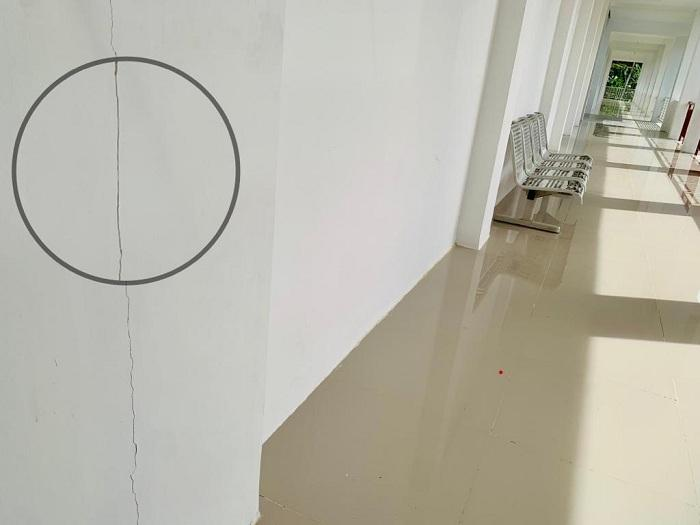Crack: (86, 0, 164, 525)
